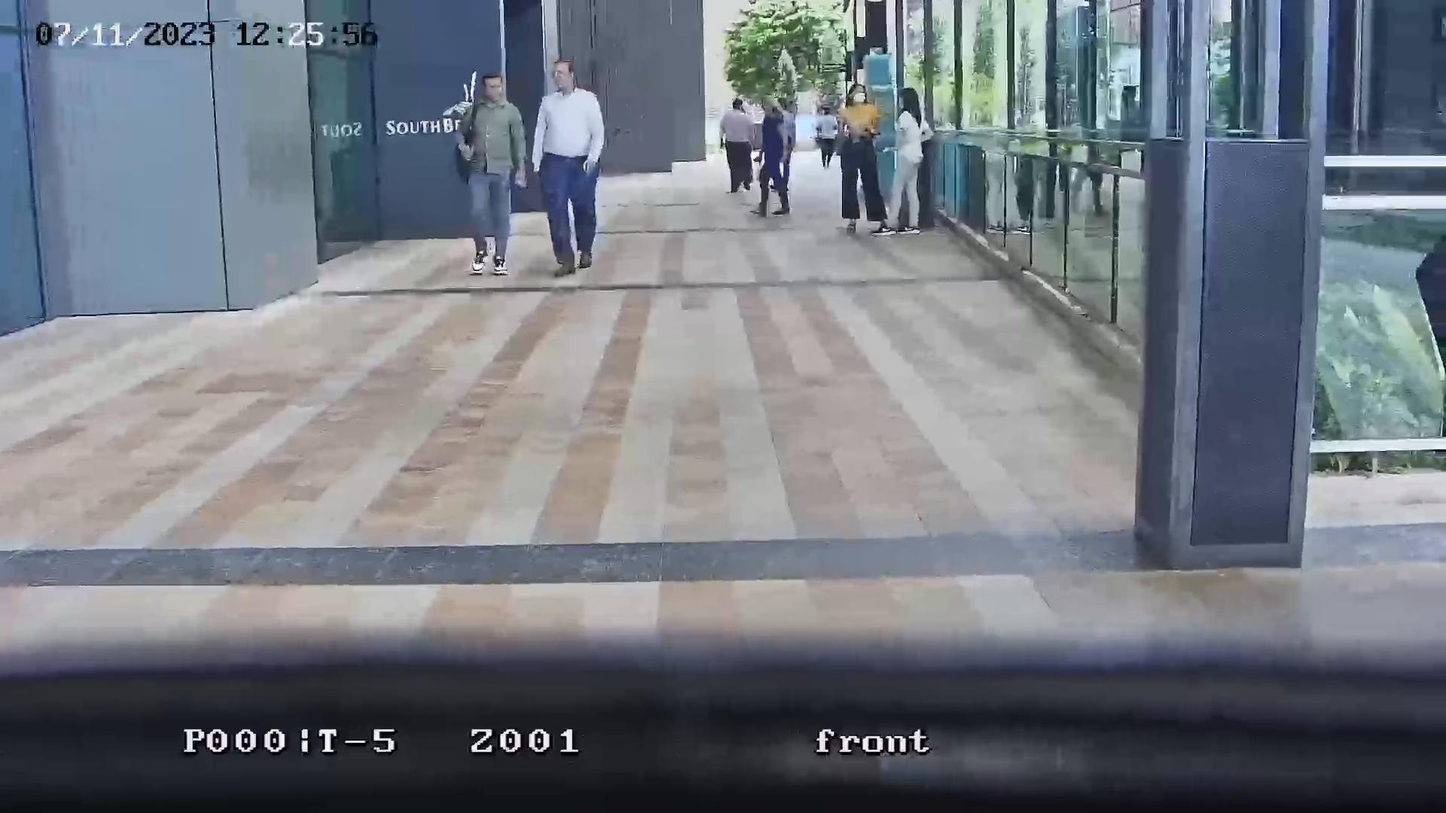person: (530, 55, 606, 276), (457, 71, 527, 276), (876, 88, 932, 236), (835, 84, 888, 233), (755, 99, 790, 215), (720, 97, 758, 193), (813, 103, 839, 168)
